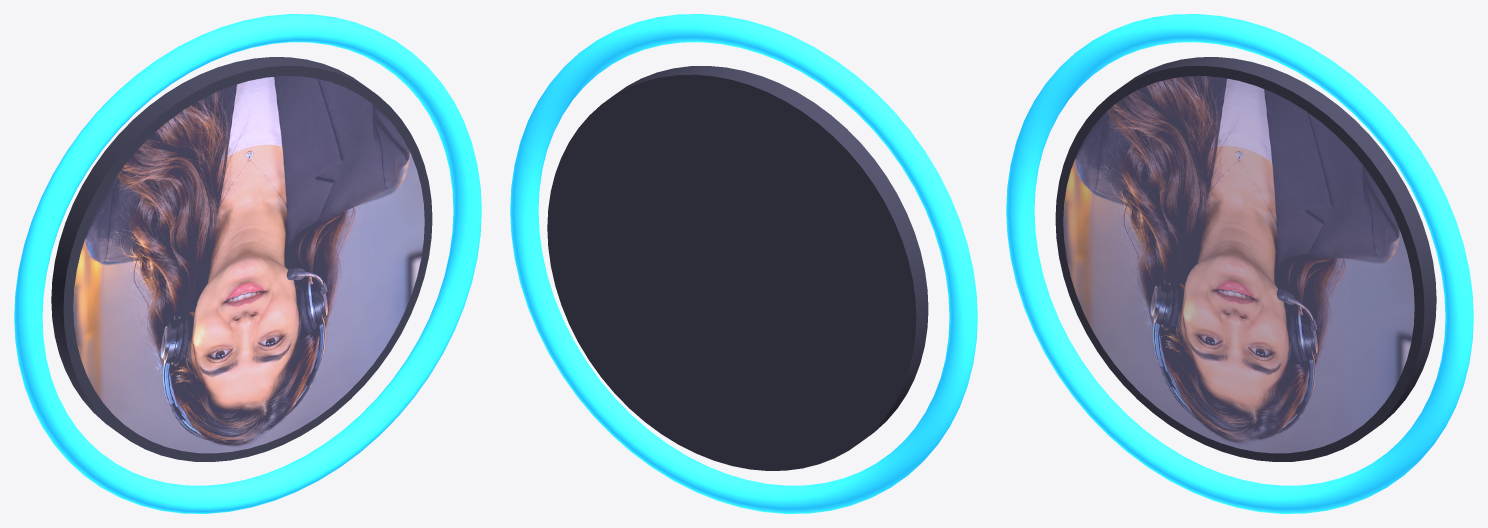
The model's file is 3d_avatar.glb.
The picture shows the model from 3 angles, left to right: view 1: azimuth 30°, elevation 25°; view 2: azimuth 150°, elevation 25°; view 3: azimuth 330°, elevation 25°; orthographic projection.
Visible parts, largest first — view 1: portrait_disc, torus_ring, cylinder_backing; view 2: cylinder_backing, torus_ring; view 3: portrait_disc, torus_ring, cylinder_backing.
Part boxes in pixels (x1,y1,x2,y2): portrait_disc: (73, 76, 424, 453); torus_ring: (14, 14, 481, 513); cylinder_backing: (51, 57, 432, 461); cylinder_backing: (547, 66, 928, 470); torus_ring: (510, 14, 977, 513); portrait_disc: (1063, 76, 1414, 453); torus_ring: (1006, 14, 1473, 513); cylinder_backing: (1055, 57, 1436, 461).
Bounding box in the file's own units: 2.64 × 2.64 × 0.19.
Materials: 3 (1 with a texture image).
